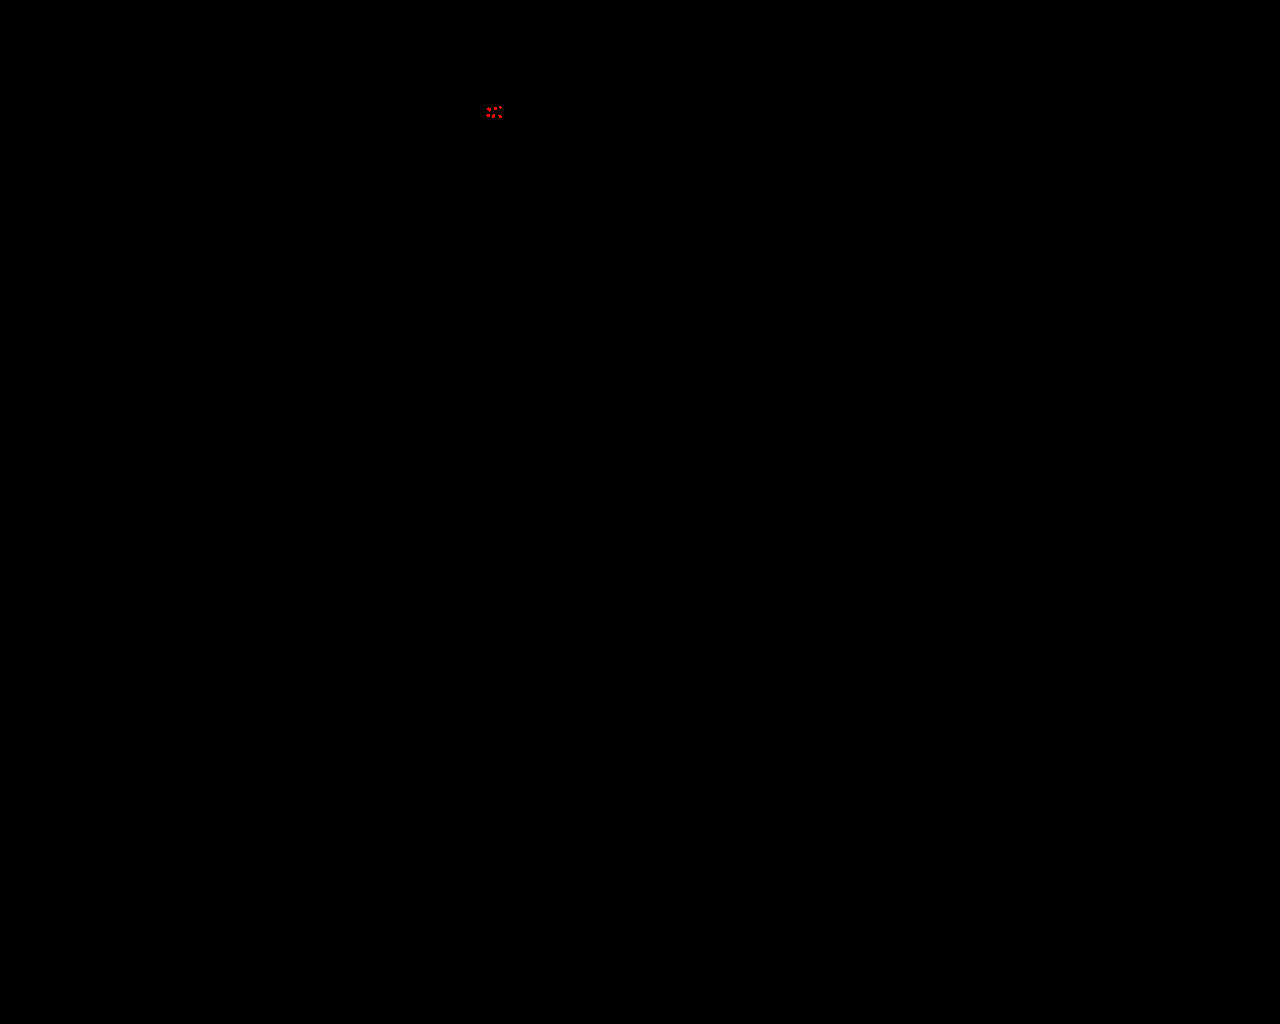Target: (487, 107, 491, 112), (486, 114, 490, 117), (492, 114, 495, 118), (494, 107, 497, 110), (498, 115, 502, 118), (499, 106, 502, 109)
